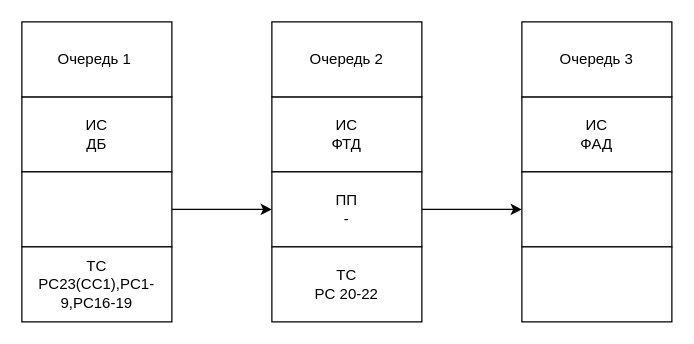
The diagram is 694 pixels wide and 344 high, and some of its shapes have lost their labels. The centre of each missing label's shape, as x and y in pixels:
"ПП П0,П1,ПП2,ПП3,ПП6" belongs at point 96,209.
"ПП ПП4, ПП5" belongs at point 596,209.
